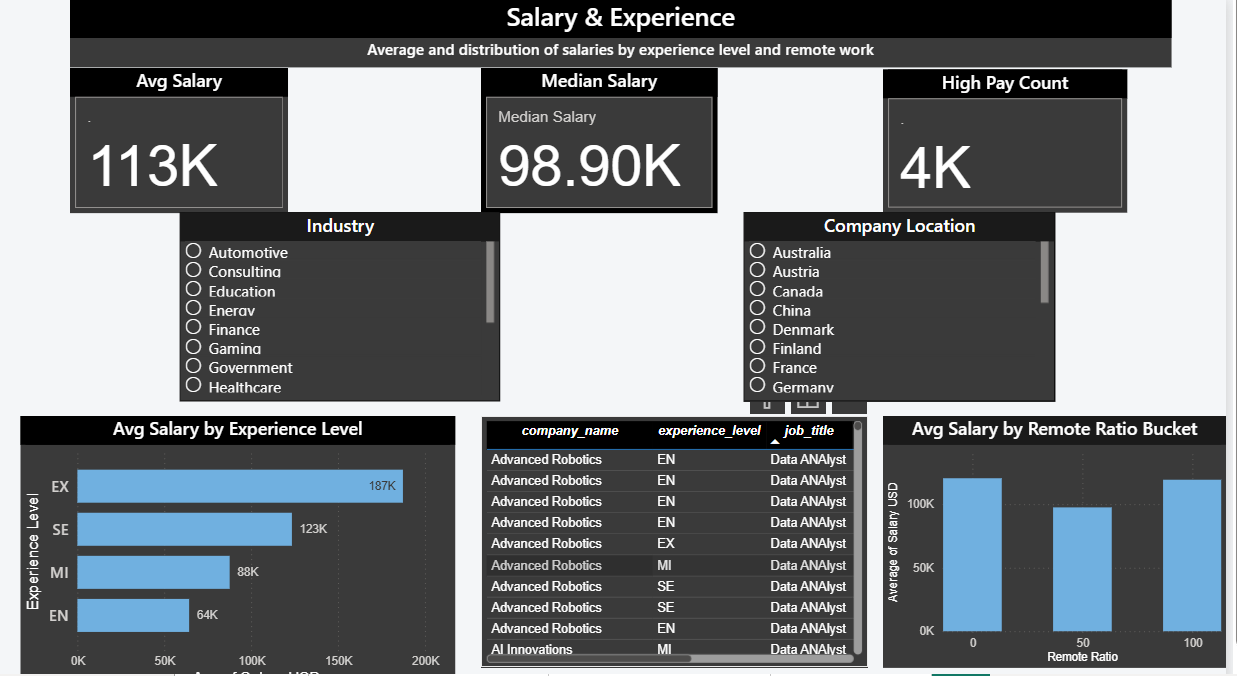

The dashboard page shown, as its layout file describes it:
{"tool":"powerbi","page":{"name":"Salary and Experience","canvas":[1280,720],"ordinal":1},"visuals":[{"type":"textbox","title":"Salary & Experience","box":[74.8,0,1148.4,71.6],"z":0},{"type":"cardVisual","title":"Avg Salary","fields":{"Data":["job_analysis.Avg Salary"]},"box":[74.8,71.6,227.5,151.1],"z":1000},{"type":"cardVisual","title":"Median Salary","fields":{"Data":["job_analysis.Median Salary"]},"box":[504.2,71.6,246.5,151.1],"z":2000},{"type":"cardVisual","title":"High Pay Count","fields":{"Data":["job_analysis.High Pay Count"]},"box":[922.6,73.2,254.5,149.5],"z":3000},{"type":"clusteredBarChart","title":"Avg Salary by Experience Level","fields":{"Category":["job_analysis.experience_level"],"Y":["Avg(job_analysis.salary_usd)"]},"box":[23.9,434.2,453.3,286.3],"z":4000},{"type":"tableEx","fields":{"Values":["job_analysis.company_name","job_analysis.experience_level","job_analysis.job_title","job_analysis.remote_ratio","job_analysis.company_location","job_analysis.salary_usd"]},"box":[504.2,434.2,402.4,262.5],"z":5000},{"type":"clusteredColumnChart","title":"Avg Salary by Remote Ratio Bucket","fields":{"Category":["job_analysis.remote_ratio"],"Y":["Avg(job_analysis.salary_usd)"]},"box":[922.6,434.2,357.9,262.5],"z":6000},{"type":"listSlicer","title":"Industry","fields":{"Values":["job_analysis.industry"]},"box":[189.3,222.7,334,197.2],"z":7000},{"type":"listSlicer","title":"Company Location","fields":{"Values":["job_analysis.company_location"]},"box":[777.8,222.7,324.5,197.2],"z":8000}]}

Visuals, with their boxes in screenshot pixels (x1, y1, x2, y2), scaled from the page's 1280x720 canvas onto the 1237x676 screenshot:
"Salary & Experience" textbox: box=[72, 0, 1182, 67]
"Avg Salary" cardVisual: box=[72, 67, 292, 209]
"Median Salary" cardVisual: box=[487, 67, 725, 209]
"High Pay Count" cardVisual: box=[892, 69, 1138, 209]
"Avg Salary by Experience Level" clusteredBarChart: box=[23, 408, 461, 675]
tableEx - job_analysis.company_name x job_analysis.experience_level: box=[487, 408, 876, 654]
"Avg Salary by Remote Ratio Bucket" clusteredColumnChart: box=[892, 408, 1236, 654]
"Industry" listSlicer: box=[183, 209, 506, 394]
"Company Location" listSlicer: box=[752, 209, 1065, 394]
